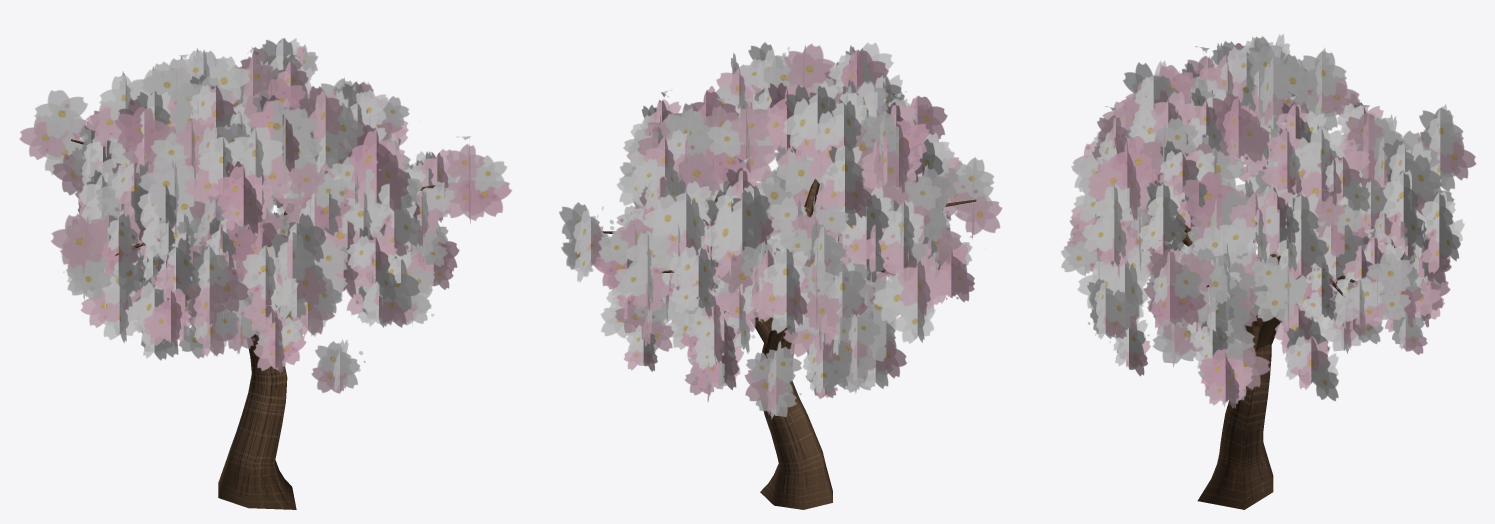
The model's file is cherry.glb.
The picture shows the model from 3 angles, left to right: view 1: azimuth 30°, elevation 25°; view 2: azimuth 150°, elevation 25°; view 3: azimuth 270°, elevation 25°; orthographic projection. The views are drawn at different scales.
Visible parts, largest first — view 1: cherry; view 2: cherry; view 3: cherry.
Boxes of the visible parts, x1=… form: cherry: x1=19, y1=38, x2=511, y2=509; cherry: x1=559, y1=42, x2=1002, y2=509; cherry: x1=1061, y1=33, x2=1476, y2=509.
Bounding box in the file's own units: 6.11 × 6.57 × 5.92.
2 materials, 2 textured.
